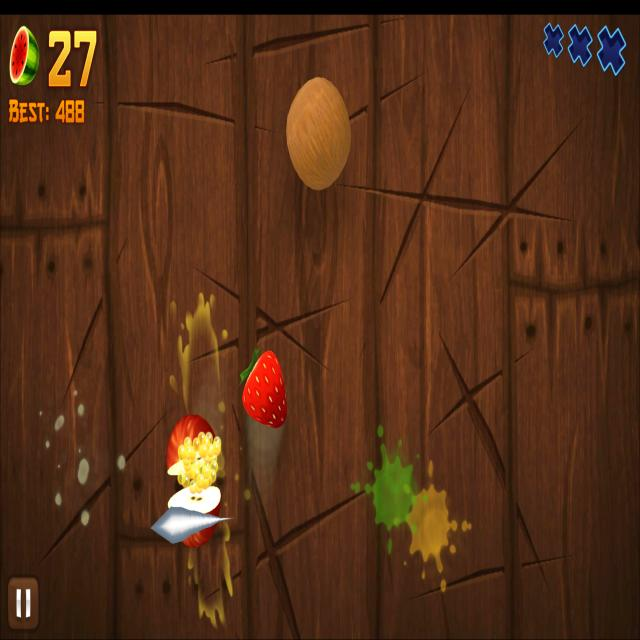fruit: (286, 74, 352, 192), (242, 348, 287, 429)
